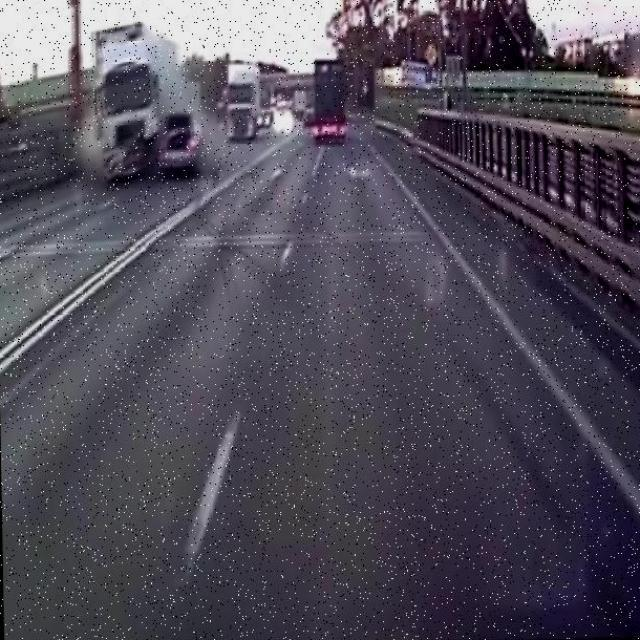accident: (82, 13, 211, 191)
